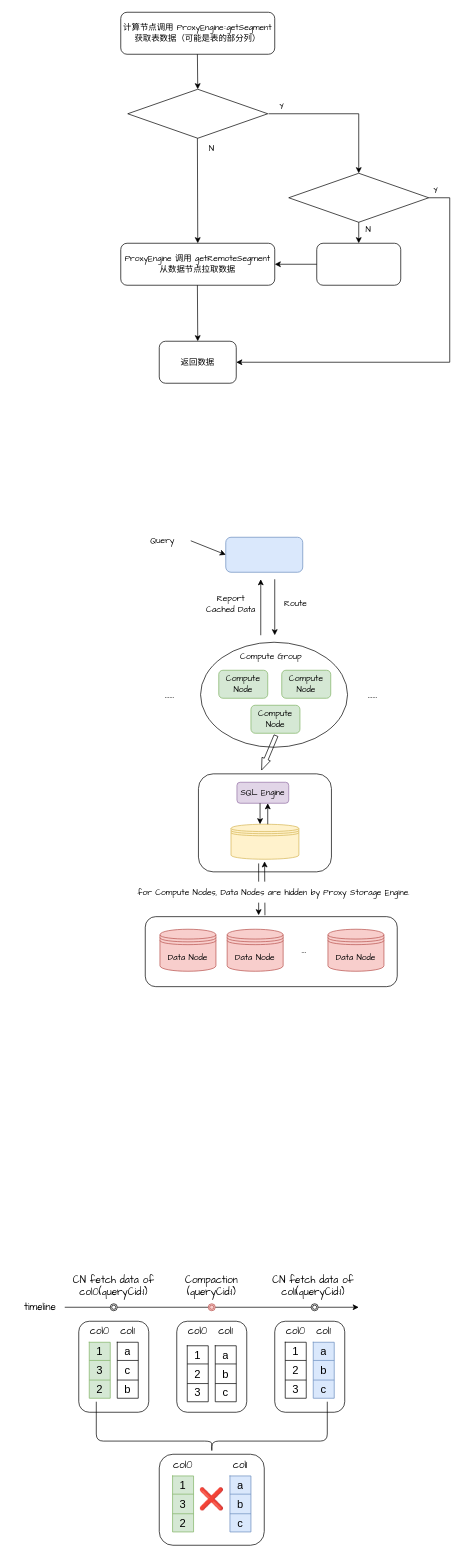
Some shapes in this 468 by 1558 pixel diagram are drawn without their labels. The shapes that lost their labels are listed below. From the top down, each one's centre as x and y in pixels, then its label:
[197,113]: ProxyEngine 检查是 否 缓存了需要的数据
[358,197]: 比对QueryCid和缓存数据 的Cid是否一致，验证缓存数据 有效性
[358,264]: 将缓存的数据标记为invalid（剔除？）
[264,554]: Controller
[264,841]: Proxy Storage Engine
